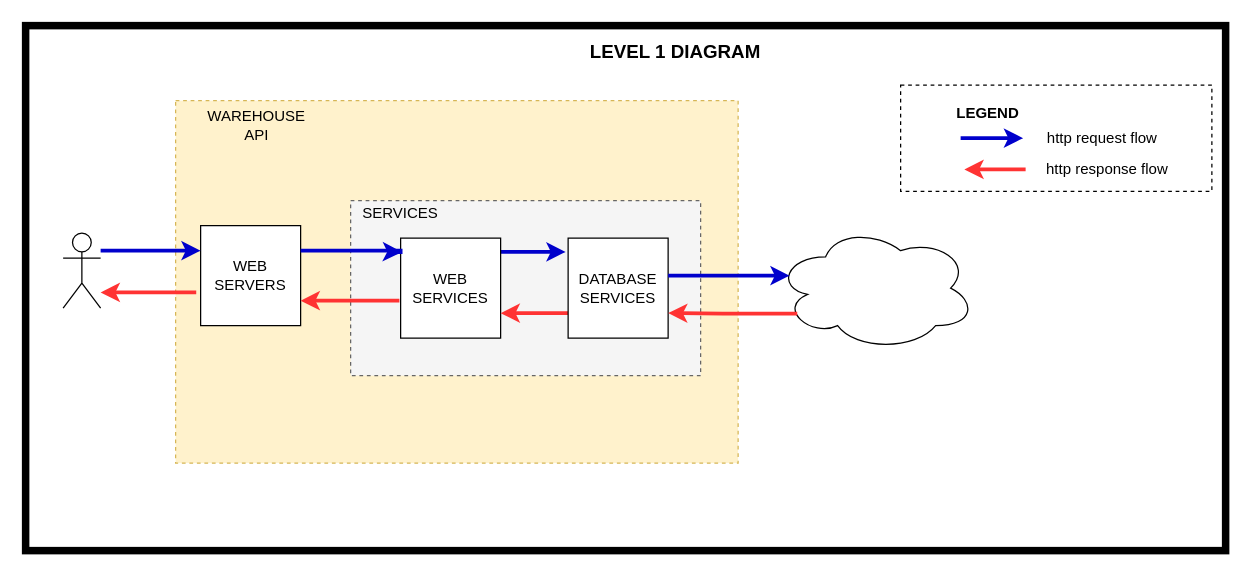
Some shapes in this 1250 by 575 pixel diagram are drawn without their labels. The centre of each missing label's shape, as x and y in pixels:
"Actor" goes at point (81, 270).
"DATABASE POOL" goes at point (875, 287).
